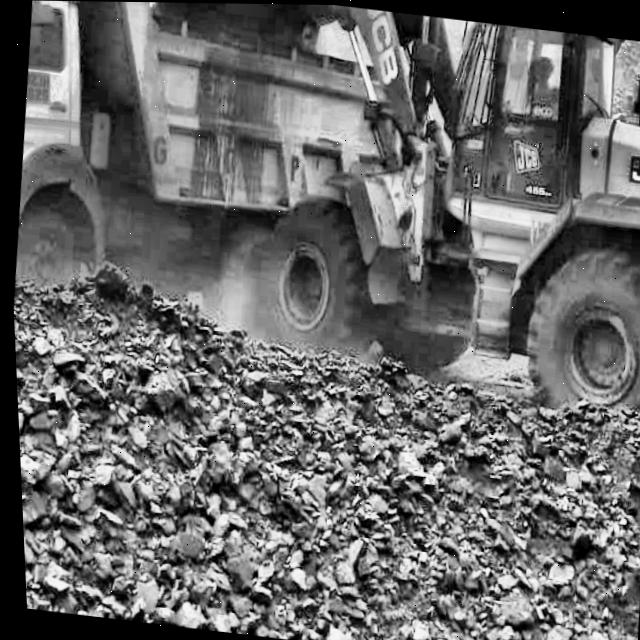buldozerpayloadergrader: (126, 1, 640, 421)
dump_truck: (1, 0, 390, 336)
